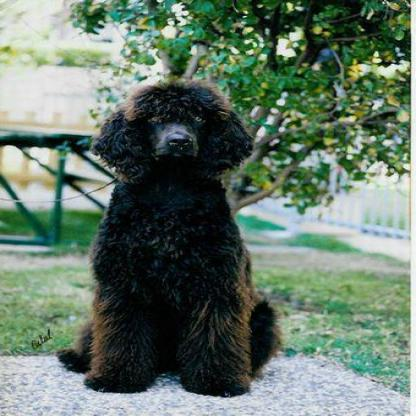Irish_water_spaniel: (54, 80, 279, 396)
